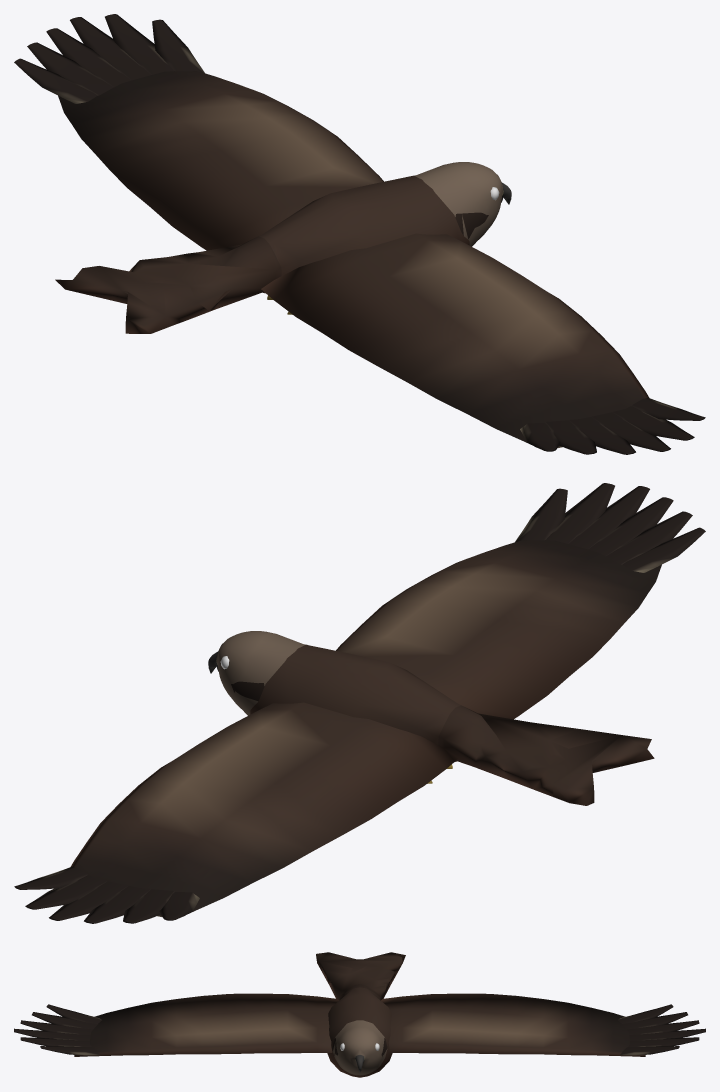
File: BlackKite.fbx
3 views of the same model, one above another, from view 1: azimuth 30°, elevation 25°; view 2: azimuth 150°, elevation 25°; view 3: azimuth 270°, elevation 25° (orthographic). The views are drawn at different scales.
Parts seen in each view (by area): view 1: WingR, WingL, Body; view 2: WingL, WingR, Body; view 3: WingR, WingL, Body.
Part boxes in pixels (left/top/right/bottom): WingR: left=261, top=233, right=705, bottom=454; WingL: left=14, top=14, right=383, bottom=250; Body: left=55, top=162, right=511, bottom=333; WingL: left=14, top=702, right=458, bottom=923; WingR: left=336, top=483, right=705, bottom=719; Body: left=208, top=631, right=654, bottom=805; WingR: left=14, top=993, right=338, bottom=1056; WingL: left=381, top=993, right=705, bottom=1056; Body: left=316, top=952, right=405, bottom=1077.
Size of the model in its own units: 0.613 by 0.1545 by 1.5.
